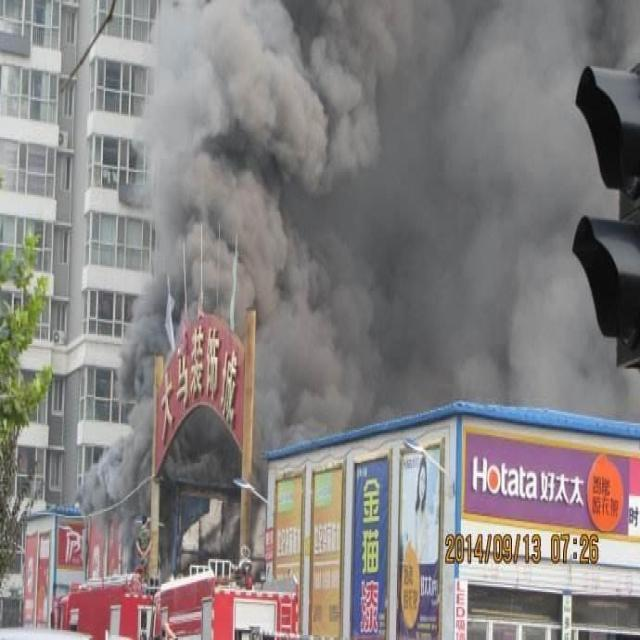Smoke: (71, 0, 640, 587)
